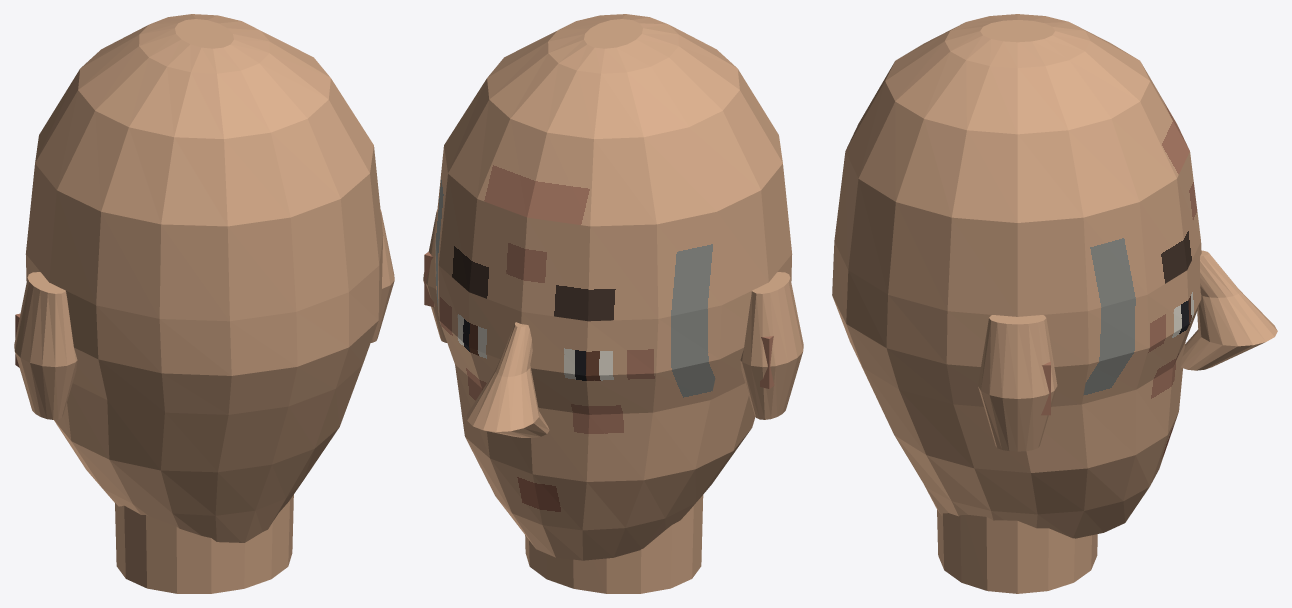
Rendered from visual-far.glb.
3 views of the same model, side by side, from view 1: azimuth 30°, elevation 25°; view 2: azimuth 150°, elevation 25°; view 3: azimuth 270°, elevation 25° (orthographic).
Visible parts, largest first — view 1: 精细老年头部母版 · 共享面孔格1; view 2: 精细老年头部母版 · 共享面孔格1; view 3: 精细老年头部母版 · 共享面孔格1.
Boxes of the visible parts, left/top/right/bottom form: 精细老年头部母版 · 共享面孔格1: left=14, top=14, right=394, bottom=593; 精细老年头部母版 · 共享面孔格1: left=423, top=14, right=803, bottom=593; 精细老年头部母版 · 共享面孔格1: left=832, top=14, right=1277, bottom=593.
Bounding box in the file's own units: 0.192 × 0.262 × 0.2017.
3 materials, 3 textured.
